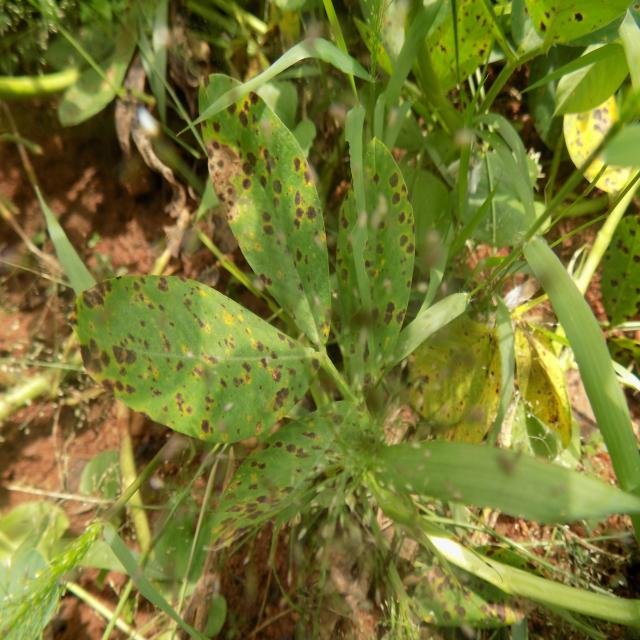Ground nut_tikka leaf spot: (76, 273, 320, 441), (197, 76, 328, 343), (341, 142, 416, 371)
